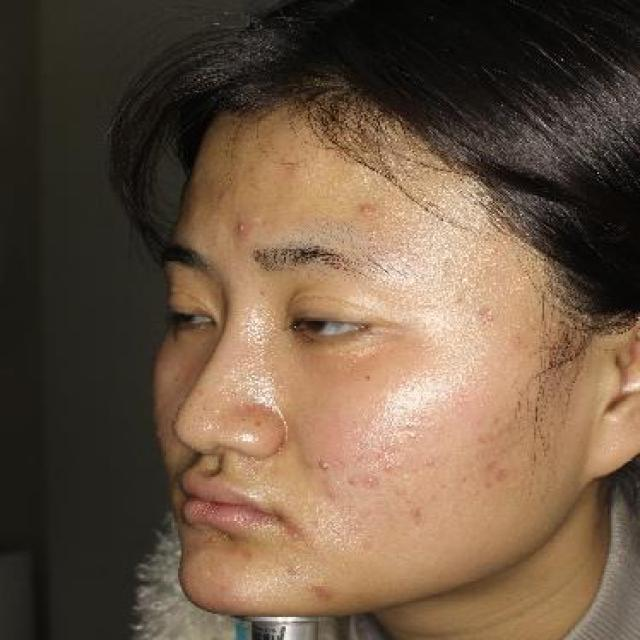Acne: (306, 576, 336, 602), (354, 202, 380, 222), (229, 214, 250, 238), (313, 451, 332, 472), (281, 562, 301, 578)
Whiteheads: (484, 240, 503, 258), (467, 277, 486, 294), (450, 290, 466, 308), (423, 452, 438, 470), (373, 443, 390, 457), (380, 463, 399, 475), (406, 429, 422, 443), (401, 420, 414, 429)
